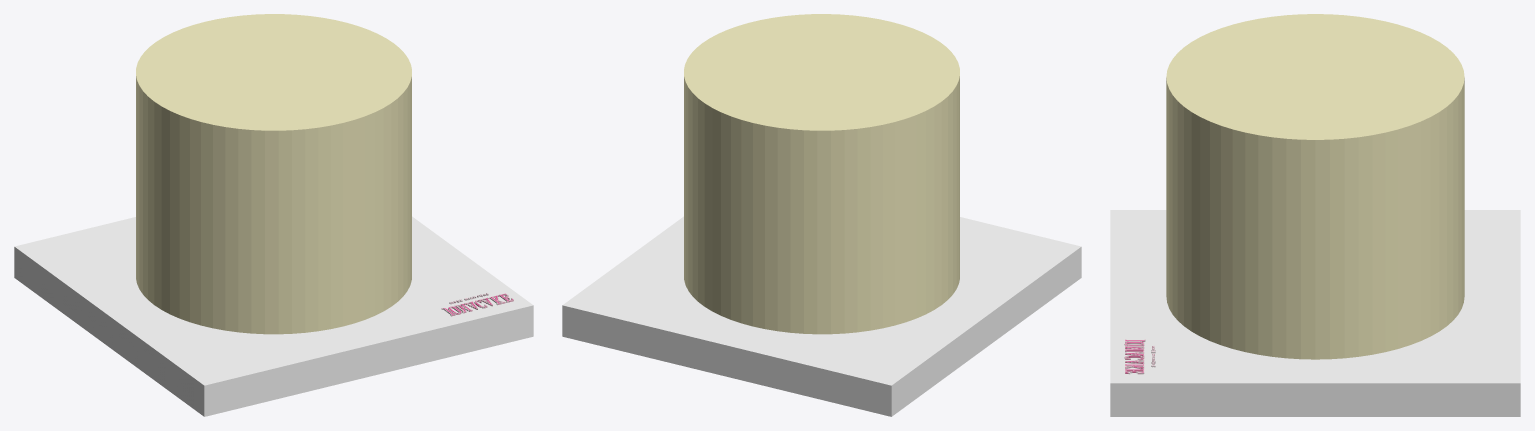
Rendered from cake_6in_layers3_v36.glb.
3 renders of one model, left to right at view 1: azimuth 30°, elevation 25°; view 2: azimuth 150°, elevation 25°; view 3: azimuth 270°, elevation 25°, orthographic. The views are drawn at different scales.
Visible parts, largest first — view 1: Cake, Board, Logo; view 2: Cake, Board; view 3: Cake, Board, Logo.
Part boxes in pixels (bbox=[...]): Cake: bbox=[136, 14, 411, 334]; Board: bbox=[14, 216, 533, 416]; Logo: bbox=[441, 292, 513, 316]; Cake: bbox=[684, 14, 959, 334]; Board: bbox=[562, 216, 1081, 416]; Cake: bbox=[1166, 14, 1464, 359]; Board: bbox=[1110, 210, 1520, 416]; Logo: bbox=[1124, 339, 1155, 374].
Size of the model in its own units: 0.22 by 0.15 by 0.22.
